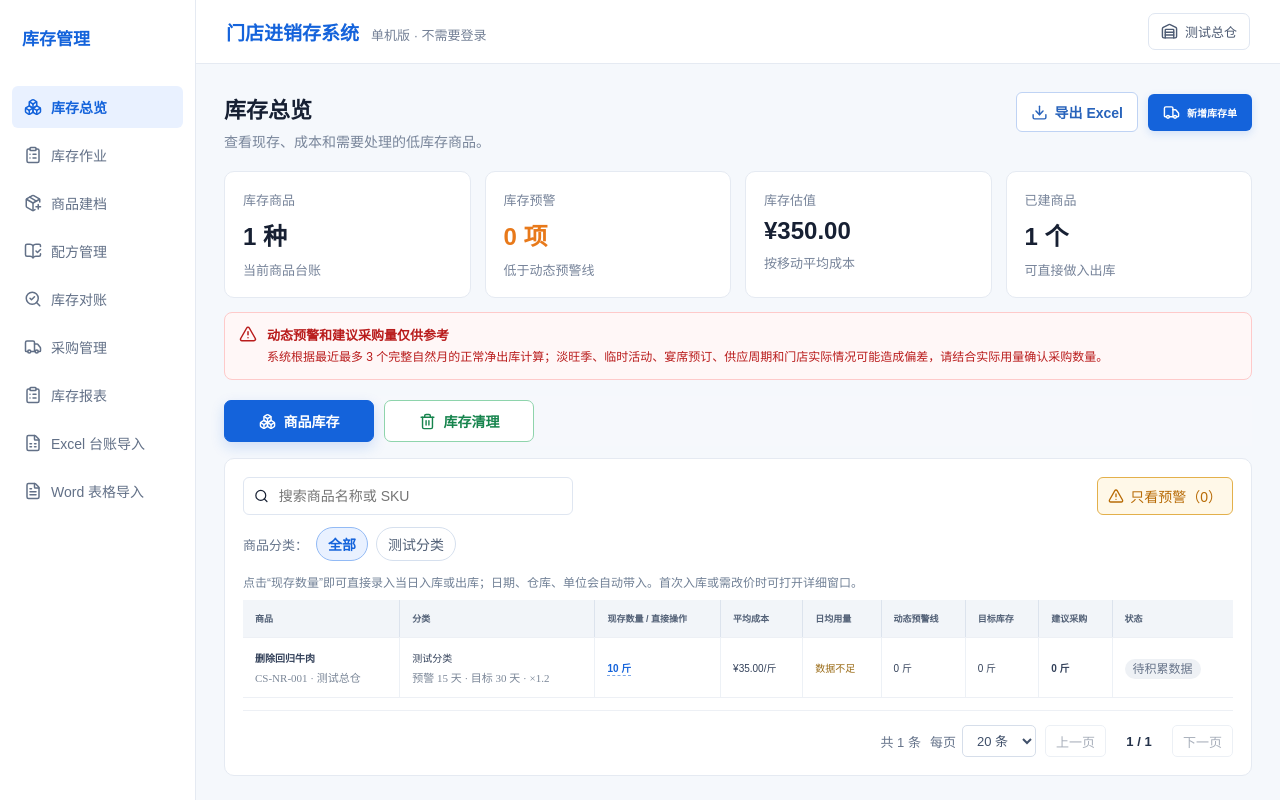
Test: 删除库存记录后页面仍可编辑 › 库存清理需要二次确认，完成后给出居中结果提示
This screenshot has width=1280, height=800.
Click the tab "库存清理": coordinates (459, 421) [384,400,534,442]
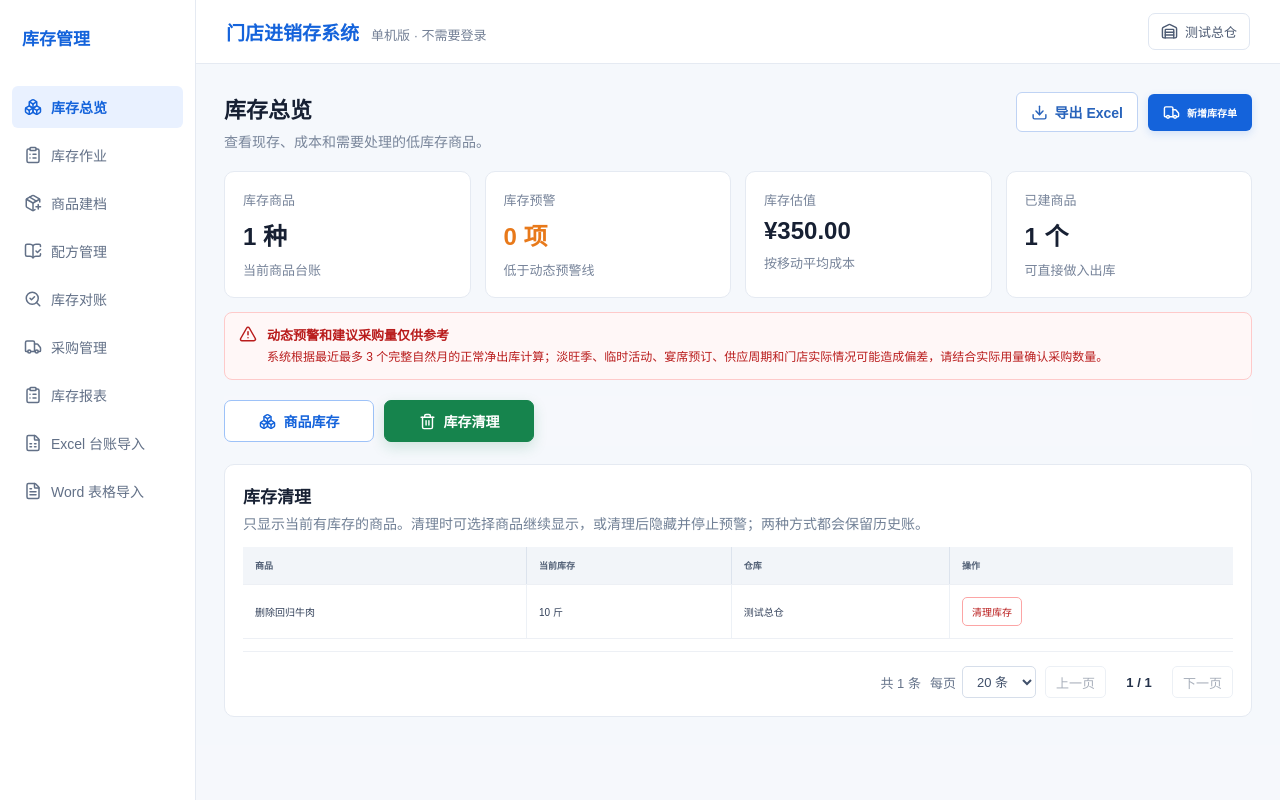
Click the button "清理库存": coordinates (992, 612) [962,597,1022,626]
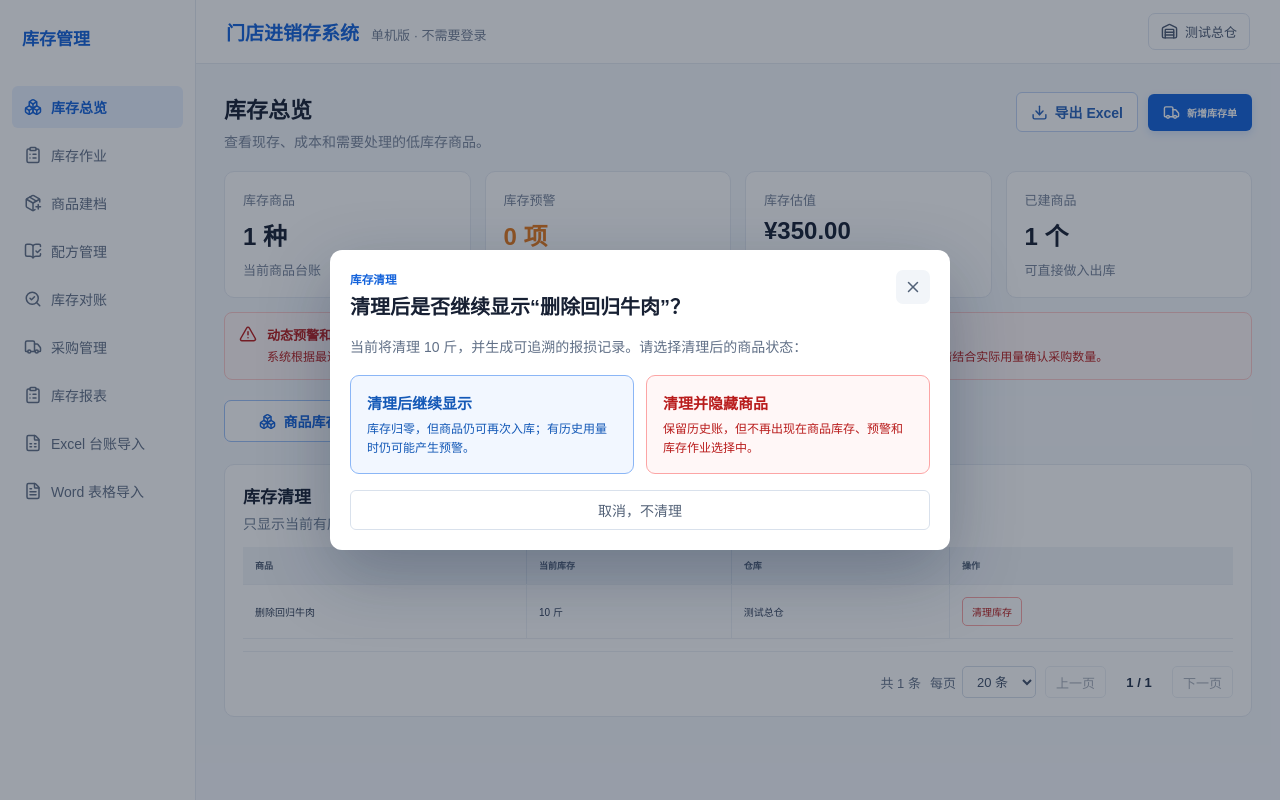
Click the button "清理后继续显示 库存归零，但商品仍可再次入库；有历史用量时仍可能产生预警。": coordinates (492, 425) [350,375,634,474]
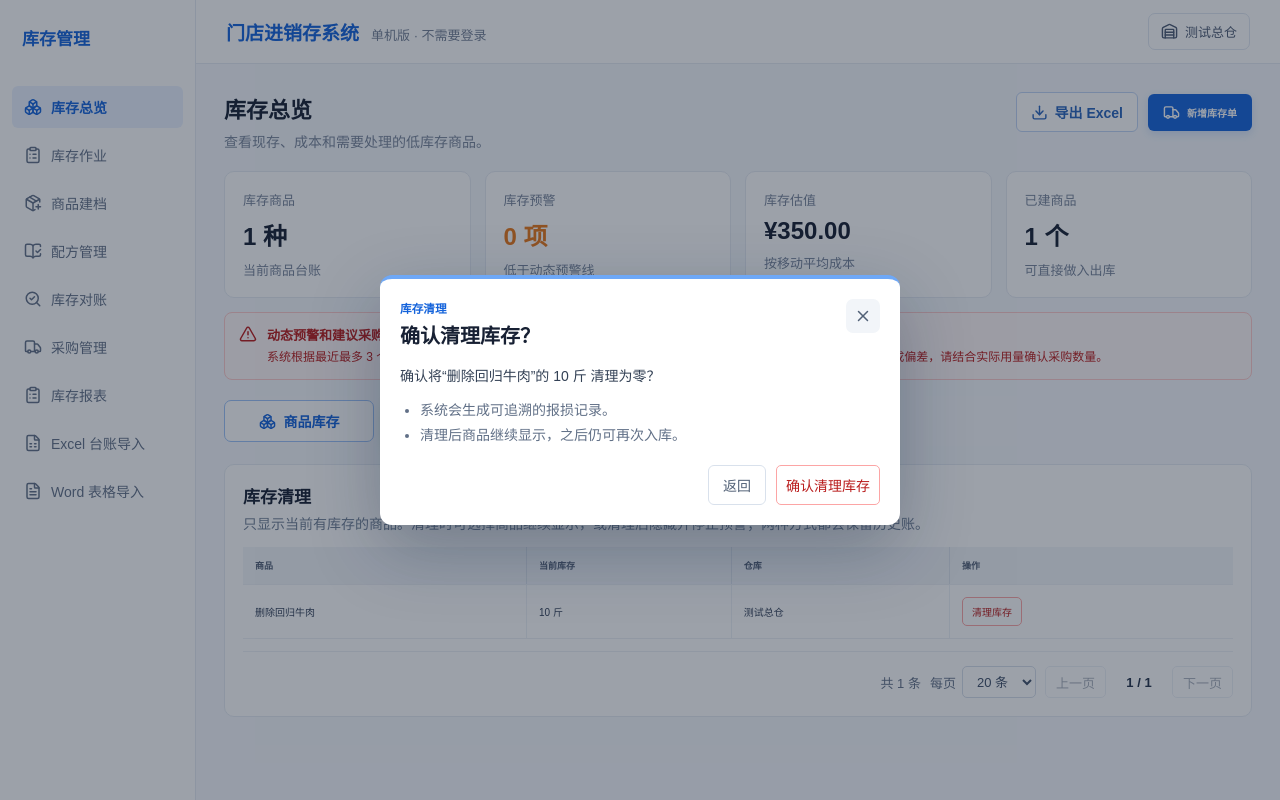
Check: the heading "确认清理库存？" is shown, box [400,320,540,349]
Click the button "确认清理库存": coordinates (828, 485) [776,465,880,505]
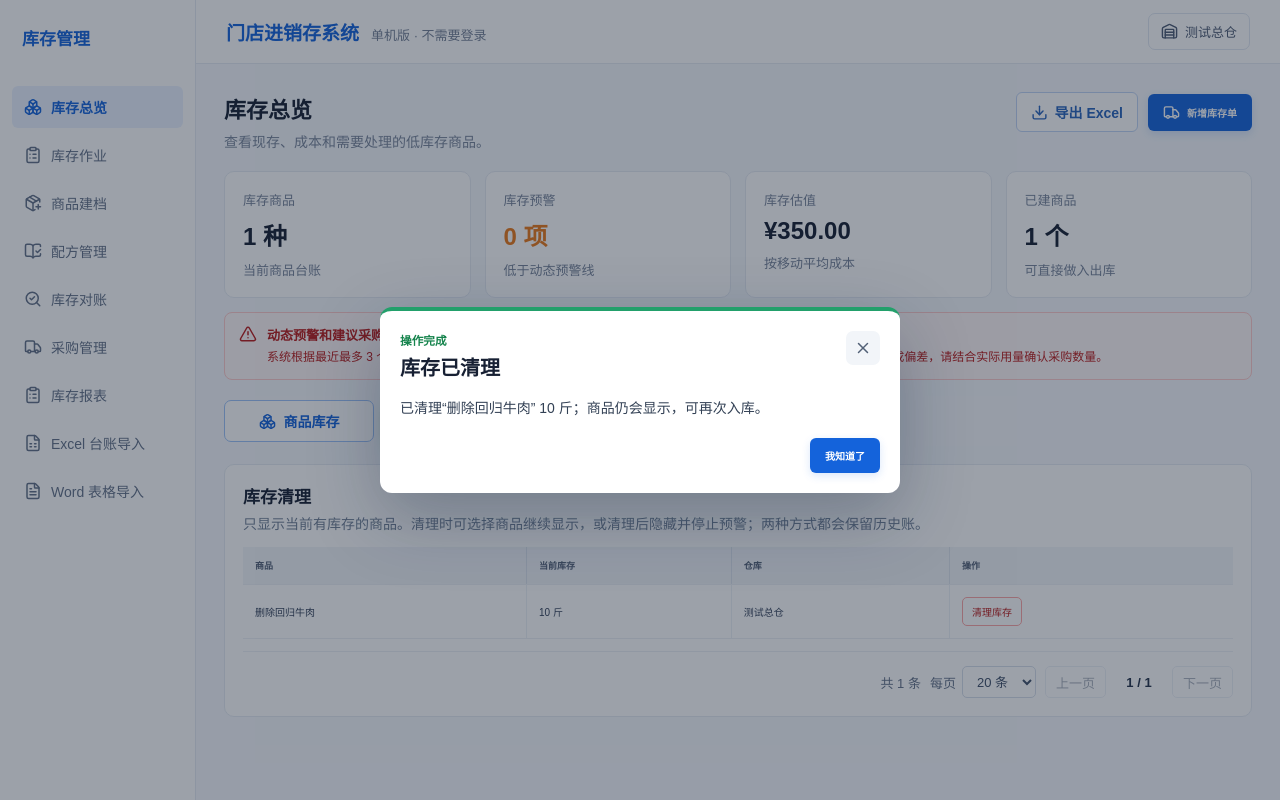
Check: the heading "库存已清理" is shown, box [400,352,500,381]
